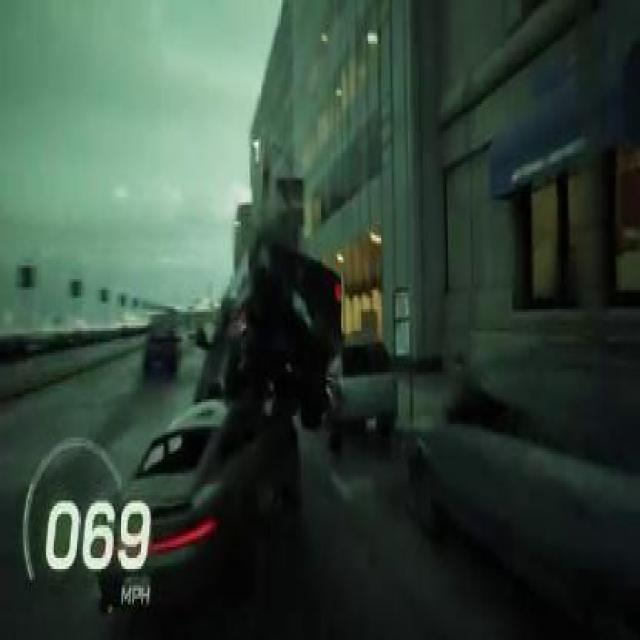accident: (86, 222, 348, 637)
